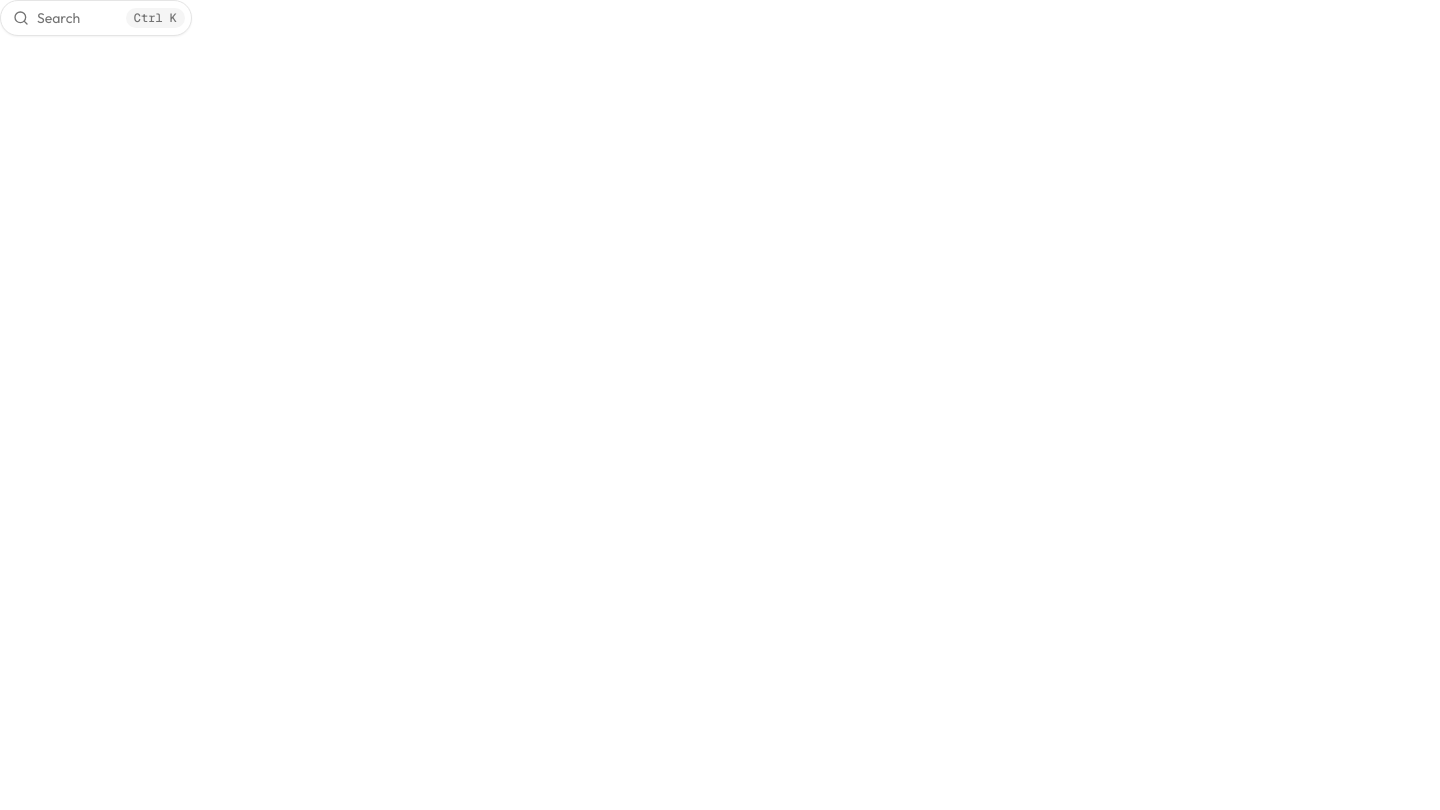
it: the command menu › says so when nothing matches
Press k
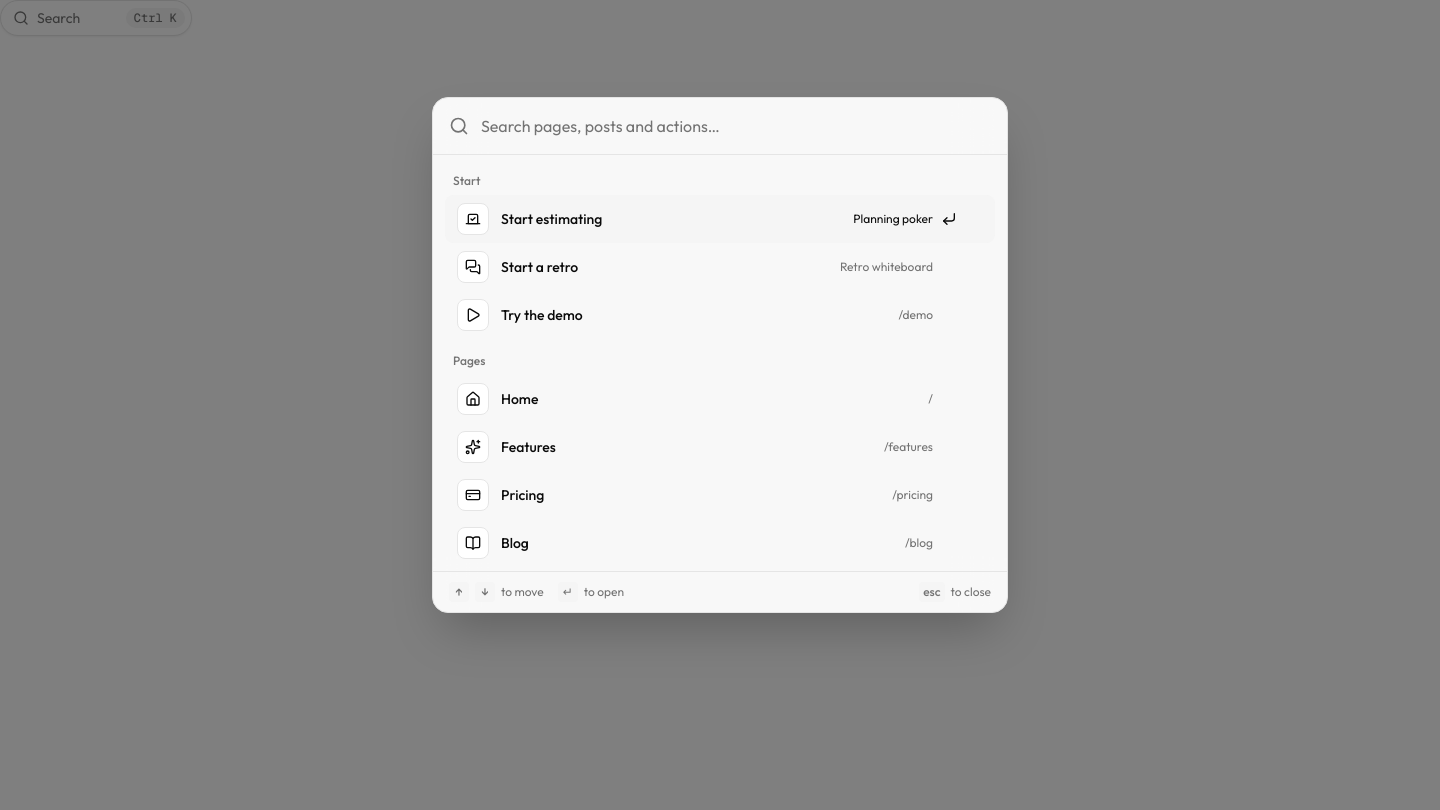
expect the dialog is shown: met, box [432,97,1008,613]
Type "zzzzqqq" into the dropdown with placeholder "Search pages, posts and actions…". click: (736, 126)
box: [481,98,991,154]
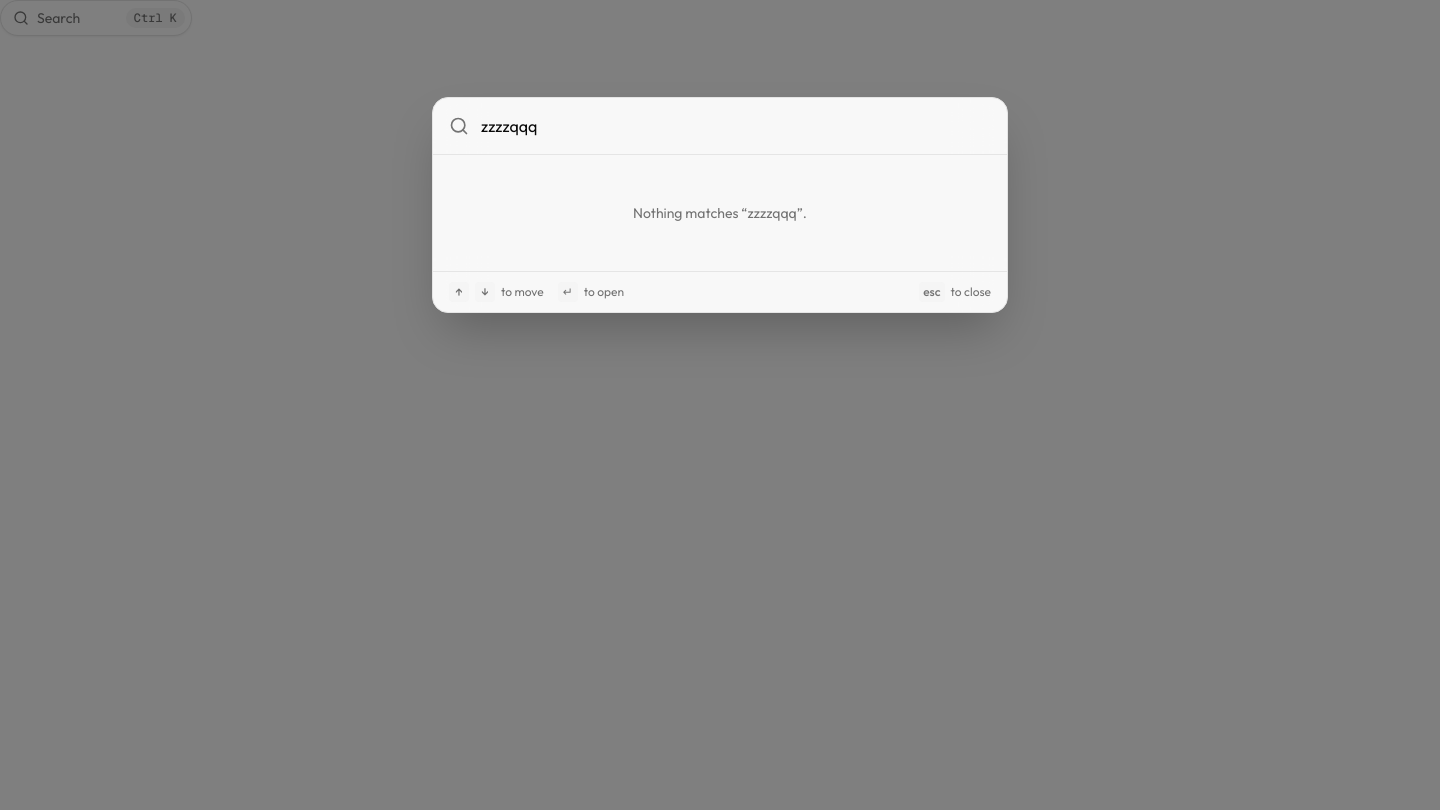
expect the text "Nothing matches “zzzzqqq”." is shown: met, box [633,204,807,222]
